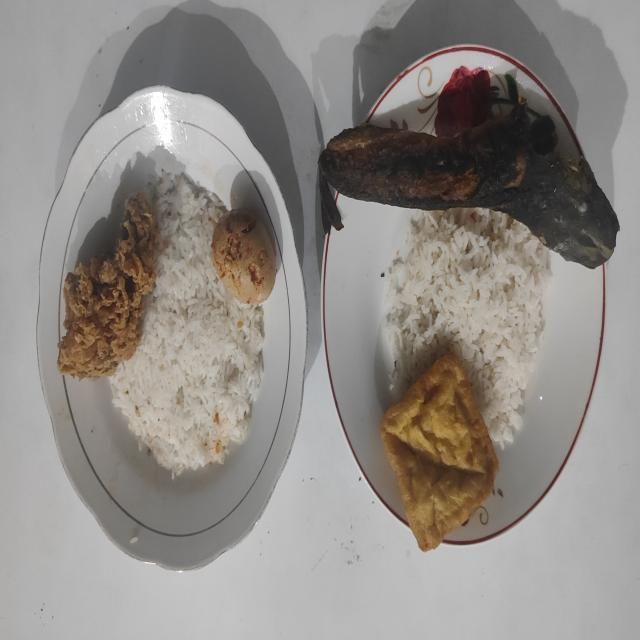nasi_putih: (110, 170, 264, 480), (384, 208, 551, 448)
tahu_goreng: (381, 354, 498, 551)
